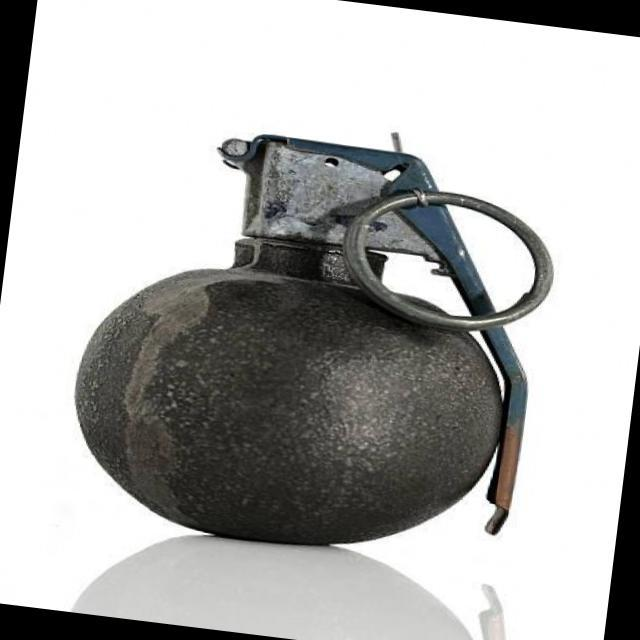grenade: (64, 109, 586, 579)
